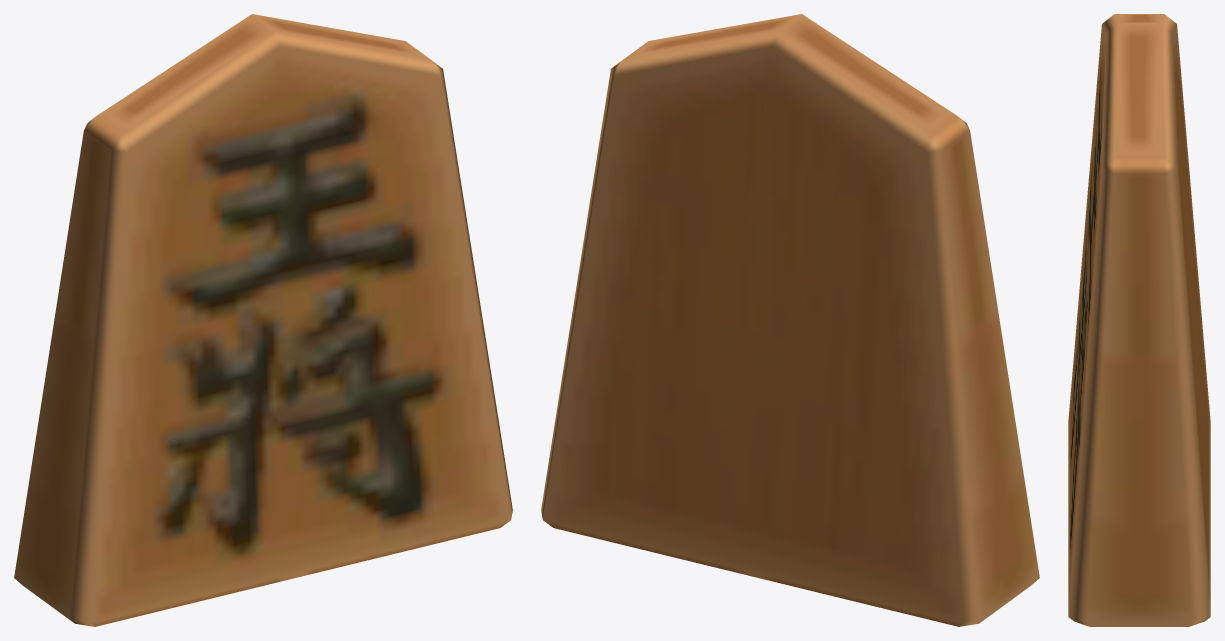
File: rmk_oth_syogikoma.dae
The picture shows the model from 3 angles, left to right: view 1: azimuth 30°, elevation 25°; view 2: azimuth 150°, elevation 25°; view 3: azimuth 270°, elevation 25°; orthographic projection. The views are drawn at different scales.
Parts seen in each view (by area): view 1: rmk_oth_syogikoma; view 2: rmk_oth_syogikoma; view 3: rmk_oth_syogikoma.
Boxes of the visible parts, bbox=[...] form: rmk_oth_syogikoma: bbox=[14, 14, 512, 626]; rmk_oth_syogikoma: bbox=[541, 14, 1039, 626]; rmk_oth_syogikoma: bbox=[1068, 14, 1210, 626].
Size of the model in its own units: 25.22 by 28.8 by 7.37.
1 material, 1 textured.
